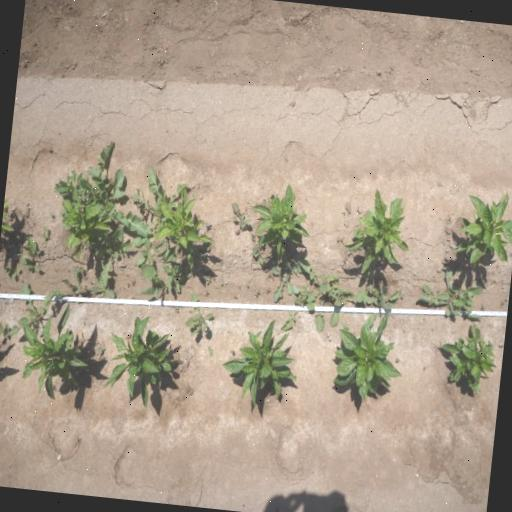plant: (98, 312, 178, 414), (20, 302, 89, 403), (221, 317, 297, 407), (332, 310, 401, 403), (444, 182, 512, 270), (345, 188, 410, 275), (252, 182, 311, 261), (439, 322, 497, 397), (156, 193, 214, 265), (62, 198, 111, 262)
weed: (55, 141, 148, 238), (130, 165, 188, 249), (297, 257, 351, 335), (421, 264, 483, 322), (7, 281, 67, 338), (90, 227, 135, 285), (279, 285, 316, 333), (184, 292, 217, 340), (268, 254, 299, 303), (137, 263, 166, 301), (364, 265, 386, 309), (90, 270, 120, 300), (228, 201, 252, 233), (163, 264, 186, 294), (416, 280, 450, 300), (136, 237, 156, 268), (63, 265, 83, 295), (16, 232, 38, 258), (380, 285, 401, 311), (18, 256, 44, 276), (252, 233, 266, 270), (2, 265, 22, 281), (38, 224, 52, 242), (329, 271, 341, 289), (0, 320, 8, 345), (182, 264, 194, 280), (204, 274, 212, 286), (207, 346, 215, 358), (96, 347, 106, 356), (204, 220, 212, 229), (336, 237, 346, 244), (254, 288, 260, 298), (174, 306, 180, 315), (78, 266, 84, 274), (250, 234, 256, 242), (395, 357, 401, 364), (220, 278, 224, 286)
